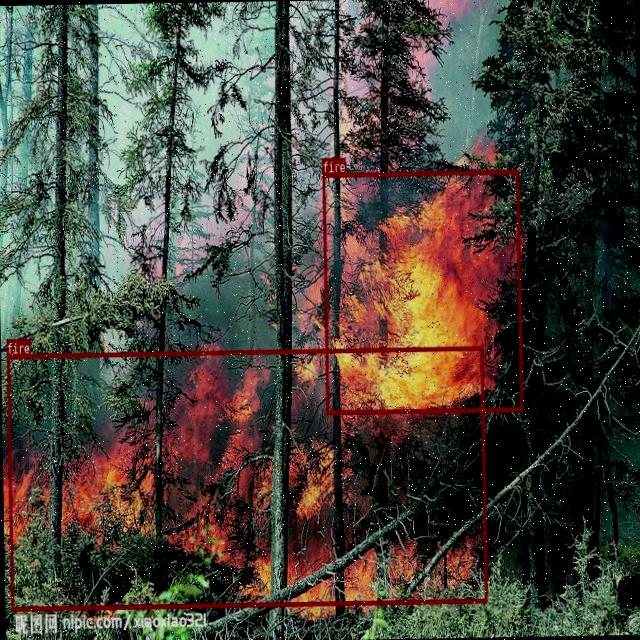fire: (6, 346, 487, 610), (321, 168, 522, 413)
